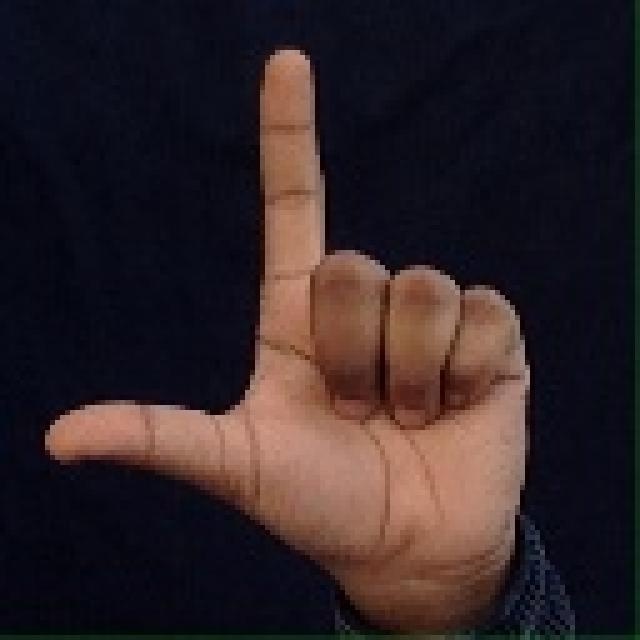Alphabet-L: (32, 41, 534, 594)
